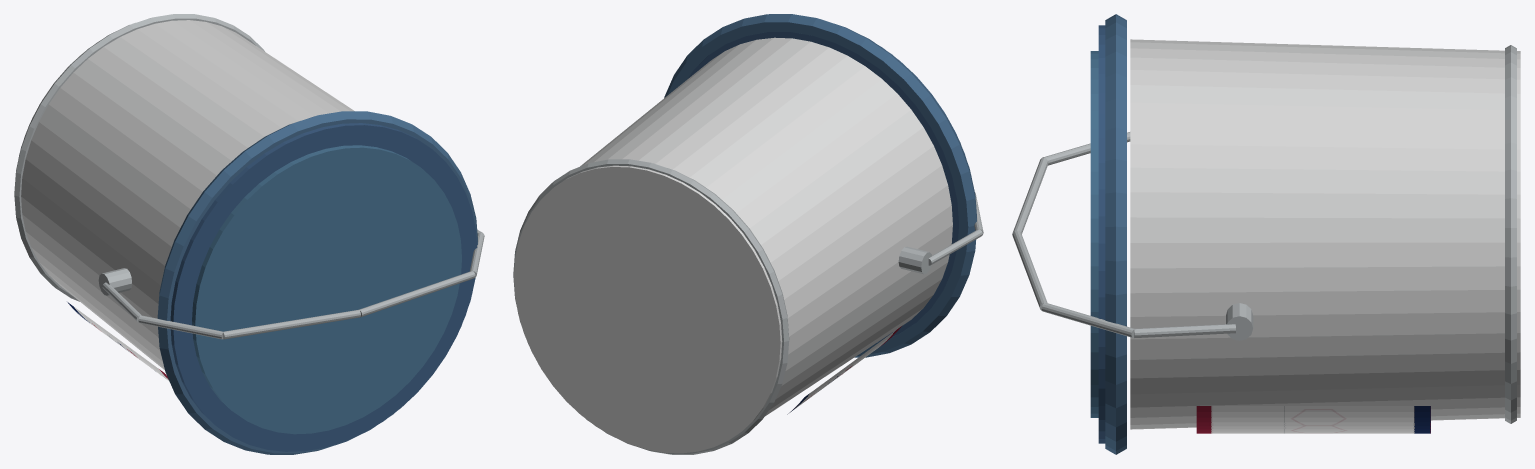
File: seau-20kg.glb
The picture shows the model from 3 angles, left to right: view 1: azimuth 30°, elevation 25°; view 2: azimuth 150°, elevation 25°; view 3: azimuth 270°, elevation 25°; orthographic projection. The views are drawn at different scales.
Parts seen in each view (by area): view 1: lid-top, body, lid-crown, lid-ring, bottom-rim, bail-2, bail-3, bail-1, handle-attachment--1, nextgen-original-label; view 2: body, lid-ring, bottom-rim, lid-crown, handle-attachment--1, nextgen-original-label, bail-0; view 3: body, lid-ring, nextgen-original-label, bottom-rim, lid-crown, lid-top, bail-5, bail-4, handle-attachment-1, bail-3, bail-2, bail-1.
Boxes of the visible parts, box(x1,y1,x2,y2) form: lid-top: box(192, 145, 461, 434); body: box(19, 20, 354, 369); lid-crown: box(170, 123, 477, 451); lid-ring: box(157, 111, 477, 454); bottom-rim: box(14, 14, 264, 301); bail-2: box(223, 309, 360, 339); bail-3: box(359, 271, 475, 317); bail-1: box(138, 315, 223, 339); handle-attachment--1: box(98, 268, 131, 295); nextgen-original-label: box(67, 302, 169, 381); body: box(513, 37, 952, 453); lid-ring: box(664, 14, 976, 357); bottom-rim: box(513, 159, 789, 454); lid-crown: box(688, 32, 966, 342); handle-attachment--1: box(898, 246, 931, 274); nextgen-original-label: box(787, 326, 901, 414); bail-0: box(928, 229, 982, 265); body: box(1130, 39, 1520, 429); lid-ring: box(1105, 14, 1126, 454); nextgen-original-label: box(1196, 406, 1430, 433); bottom-rim: box(1505, 45, 1516, 423); lid-crown: box(1098, 25, 1105, 443); lid-top: box(1090, 51, 1098, 417); bail-5: box(1134, 324, 1235, 337); bail-4: box(1041, 303, 1134, 337); handle-attachment-1: box(1226, 303, 1253, 340); bail-3: box(1012, 230, 1047, 310); bail-2: box(1012, 157, 1048, 233); bail-1: box(1042, 132, 1130, 165).
Size of the model in its own units: 1.22 by 1.13 by 1.3.
Materials: 1 (1 with a texture image).
